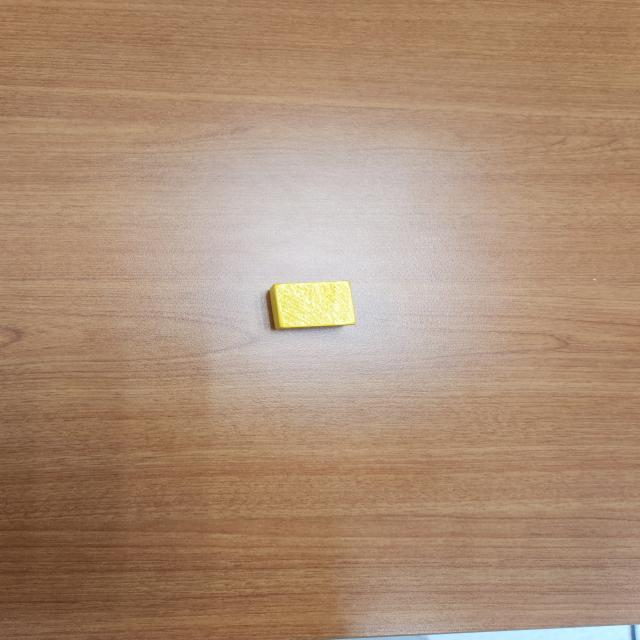yellow: (266, 281, 356, 331)
